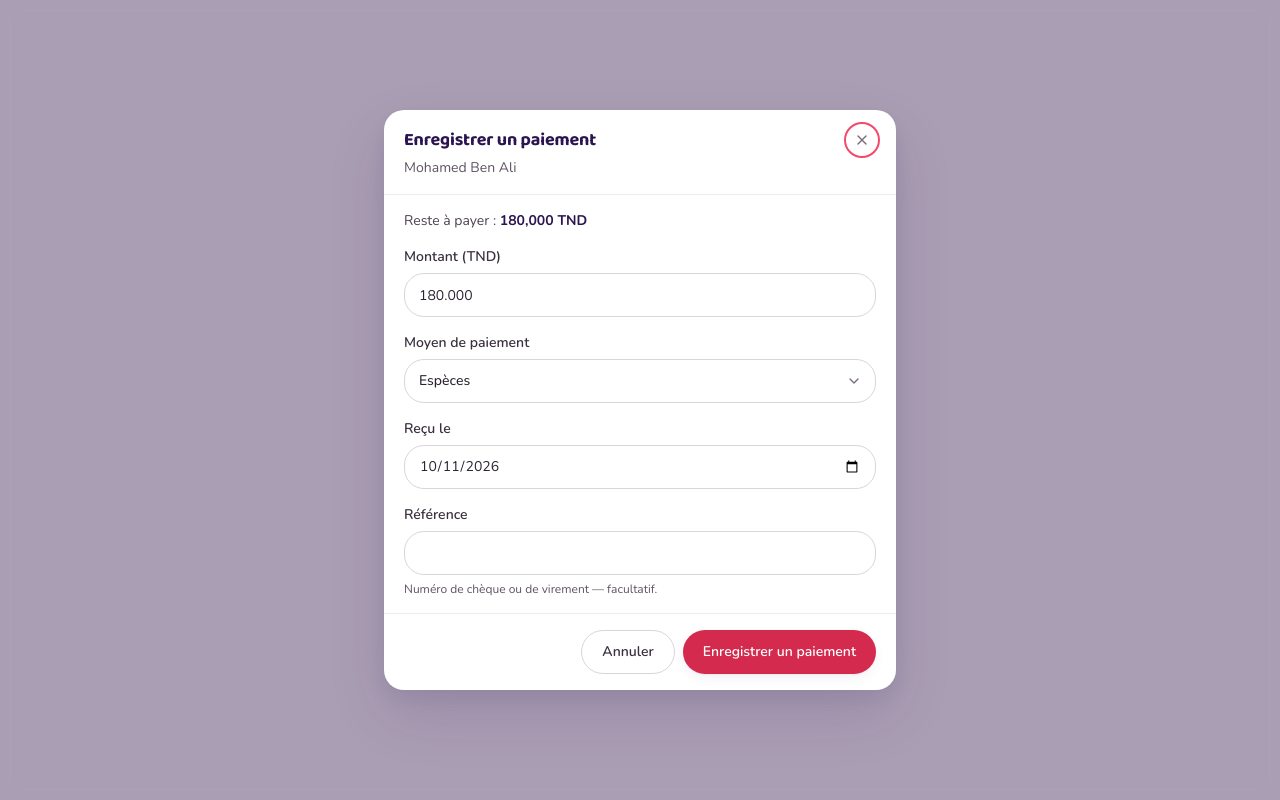
Test case: recording a payment › refuses an amount with more precision than a millime
Replace the text in the field labelled "Montant (TND)" with "10.5555" at (640, 295), box [404, 273, 876, 317]
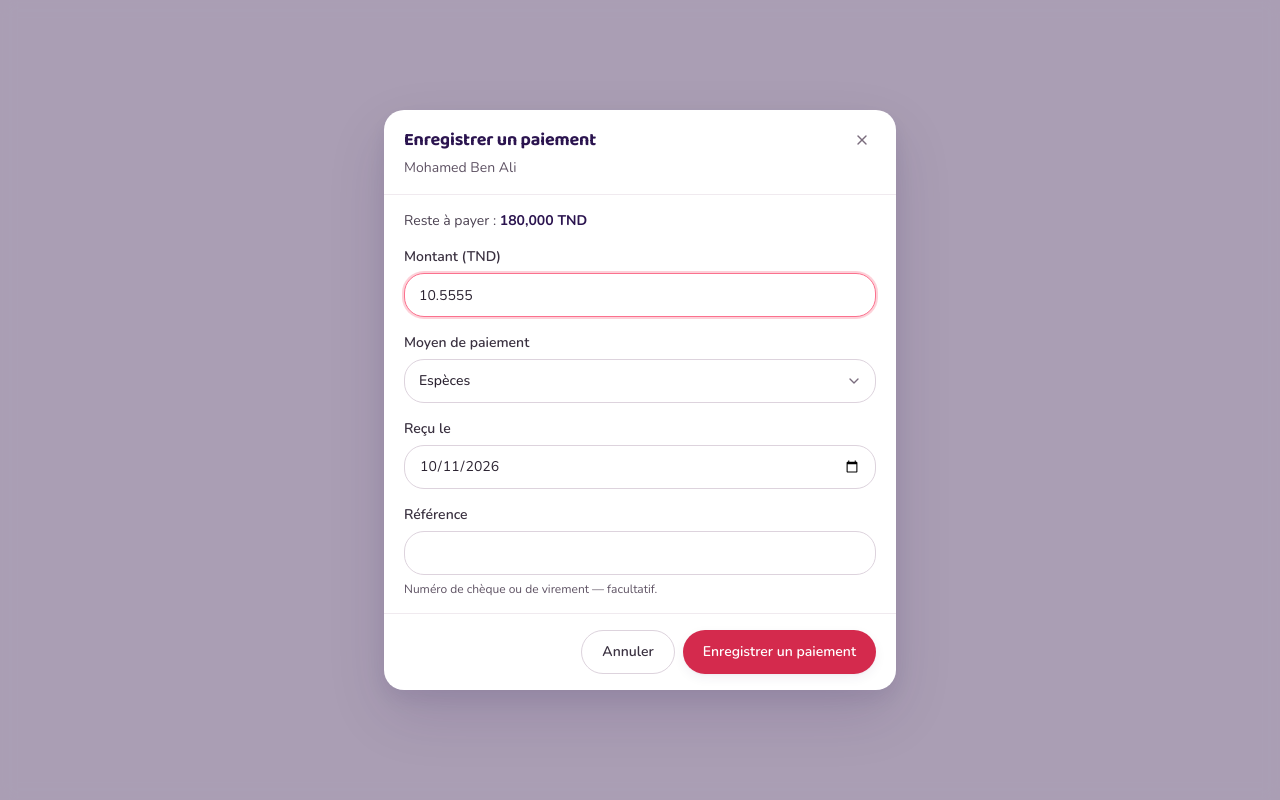
Click the button "Enregistrer un paiement" at (779, 652), box [683, 630, 876, 674]
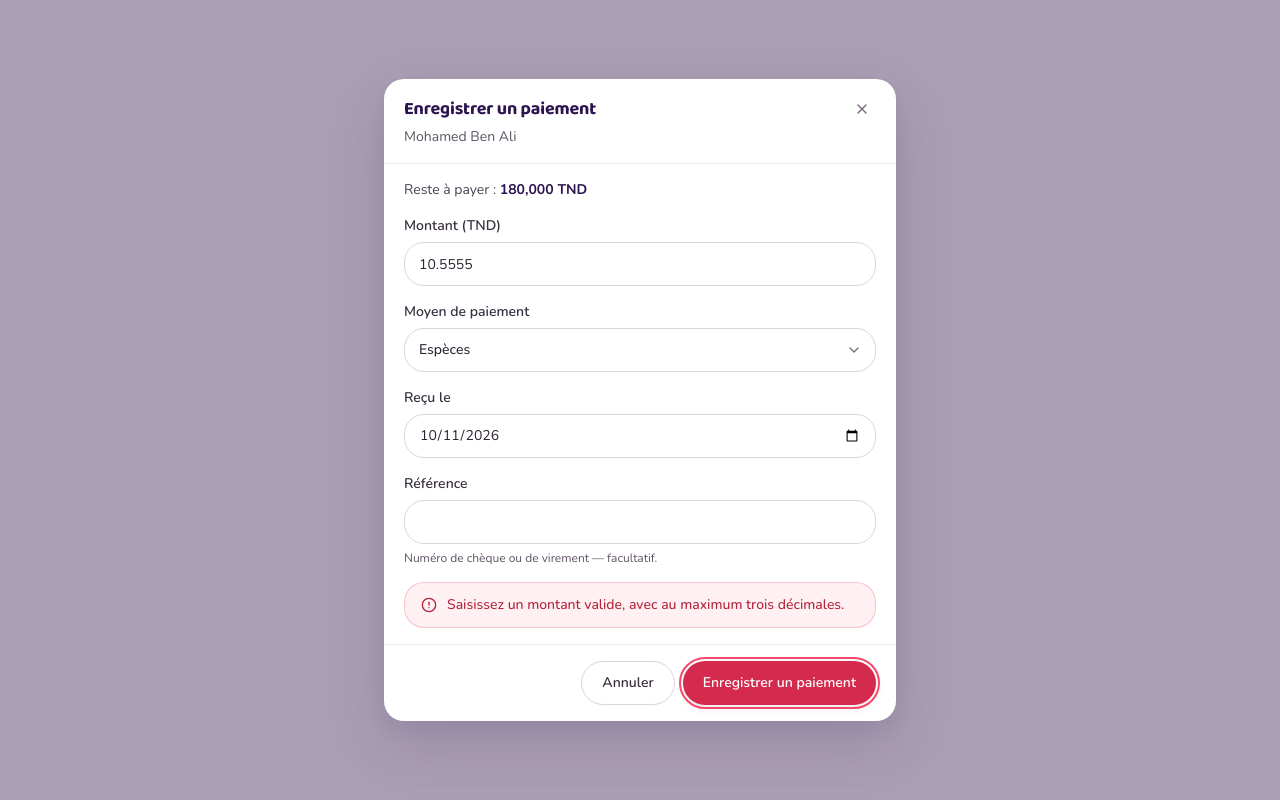
expect the message "Saisissez un montant valide, avec au maximum trois décimales." is shown: met, box [404, 582, 876, 628]
